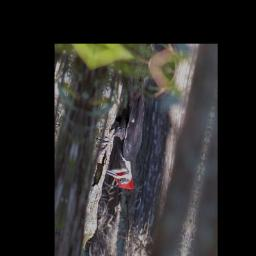Woodpecker: (89, 57, 159, 193)
